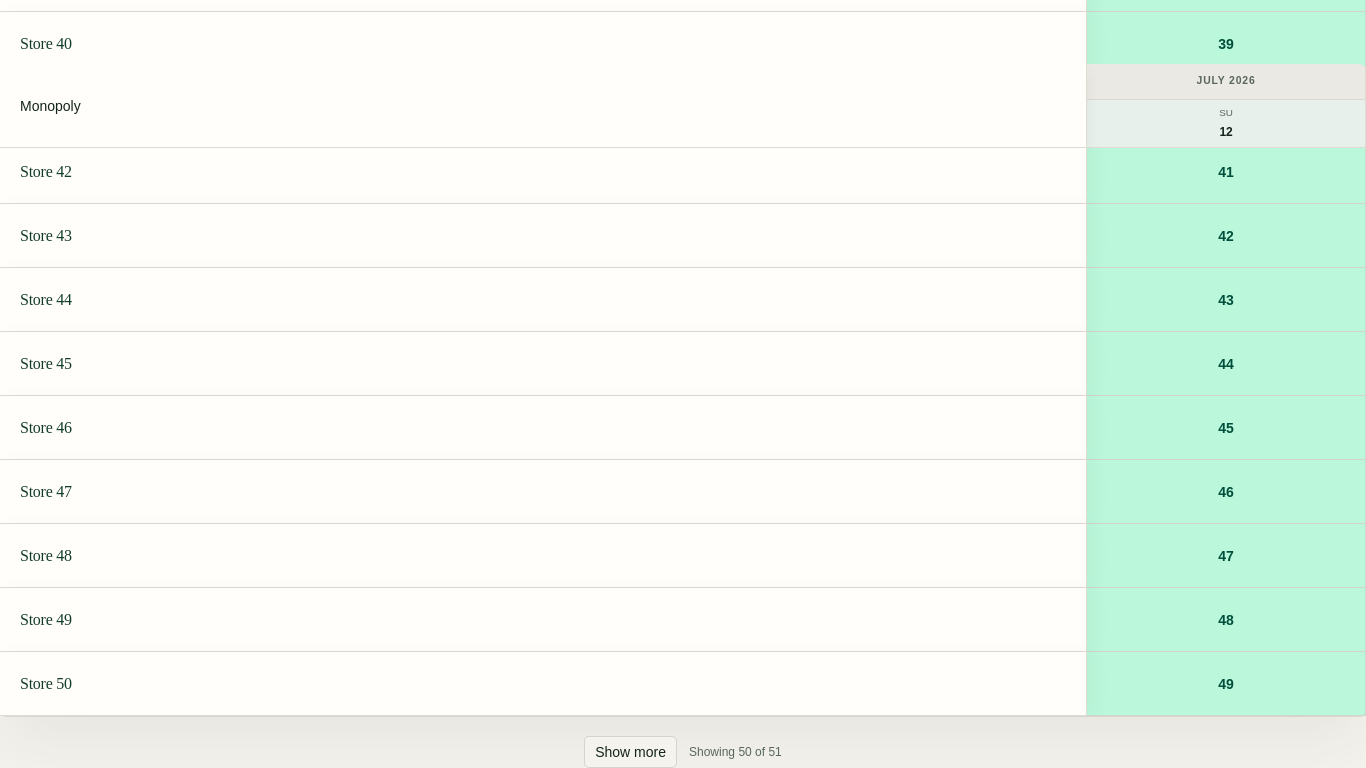
Test: InventoryMatrix › renders large matrices in bounded batches
(page scrolled)
Check: the text "Store 51" is not shown
Check: the text "Showing 50 of 51" is shown, box [689, 744, 782, 760]
Click the button "Show more". click: point(631, 752)
box: [584, 736, 677, 767]
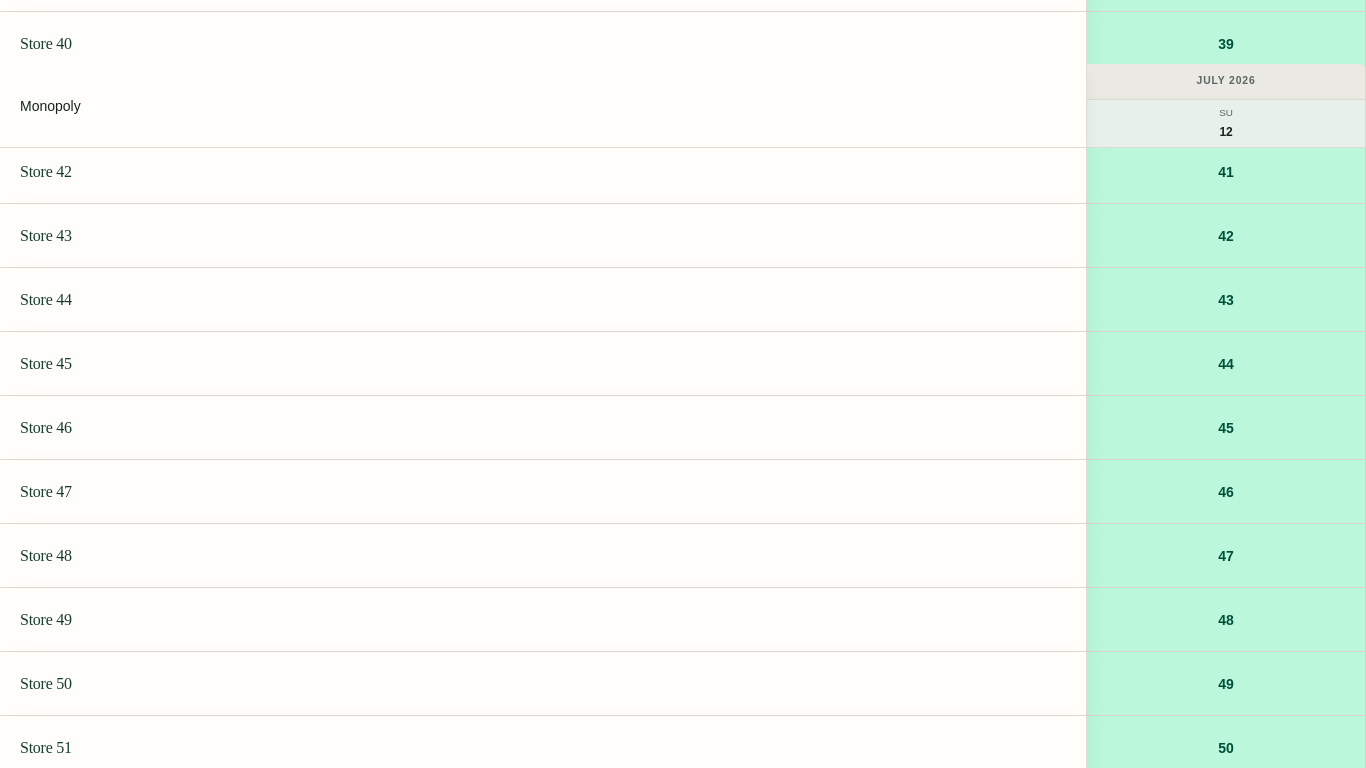
Check: the number of links "Store 51" is 2
Check: the text "Showing 50 of 51" is gone
